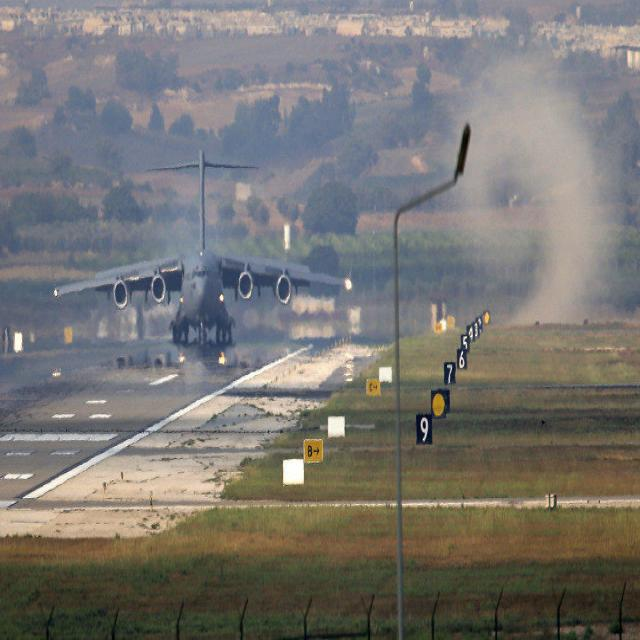MIL_Plane: (70, 149, 334, 348)
